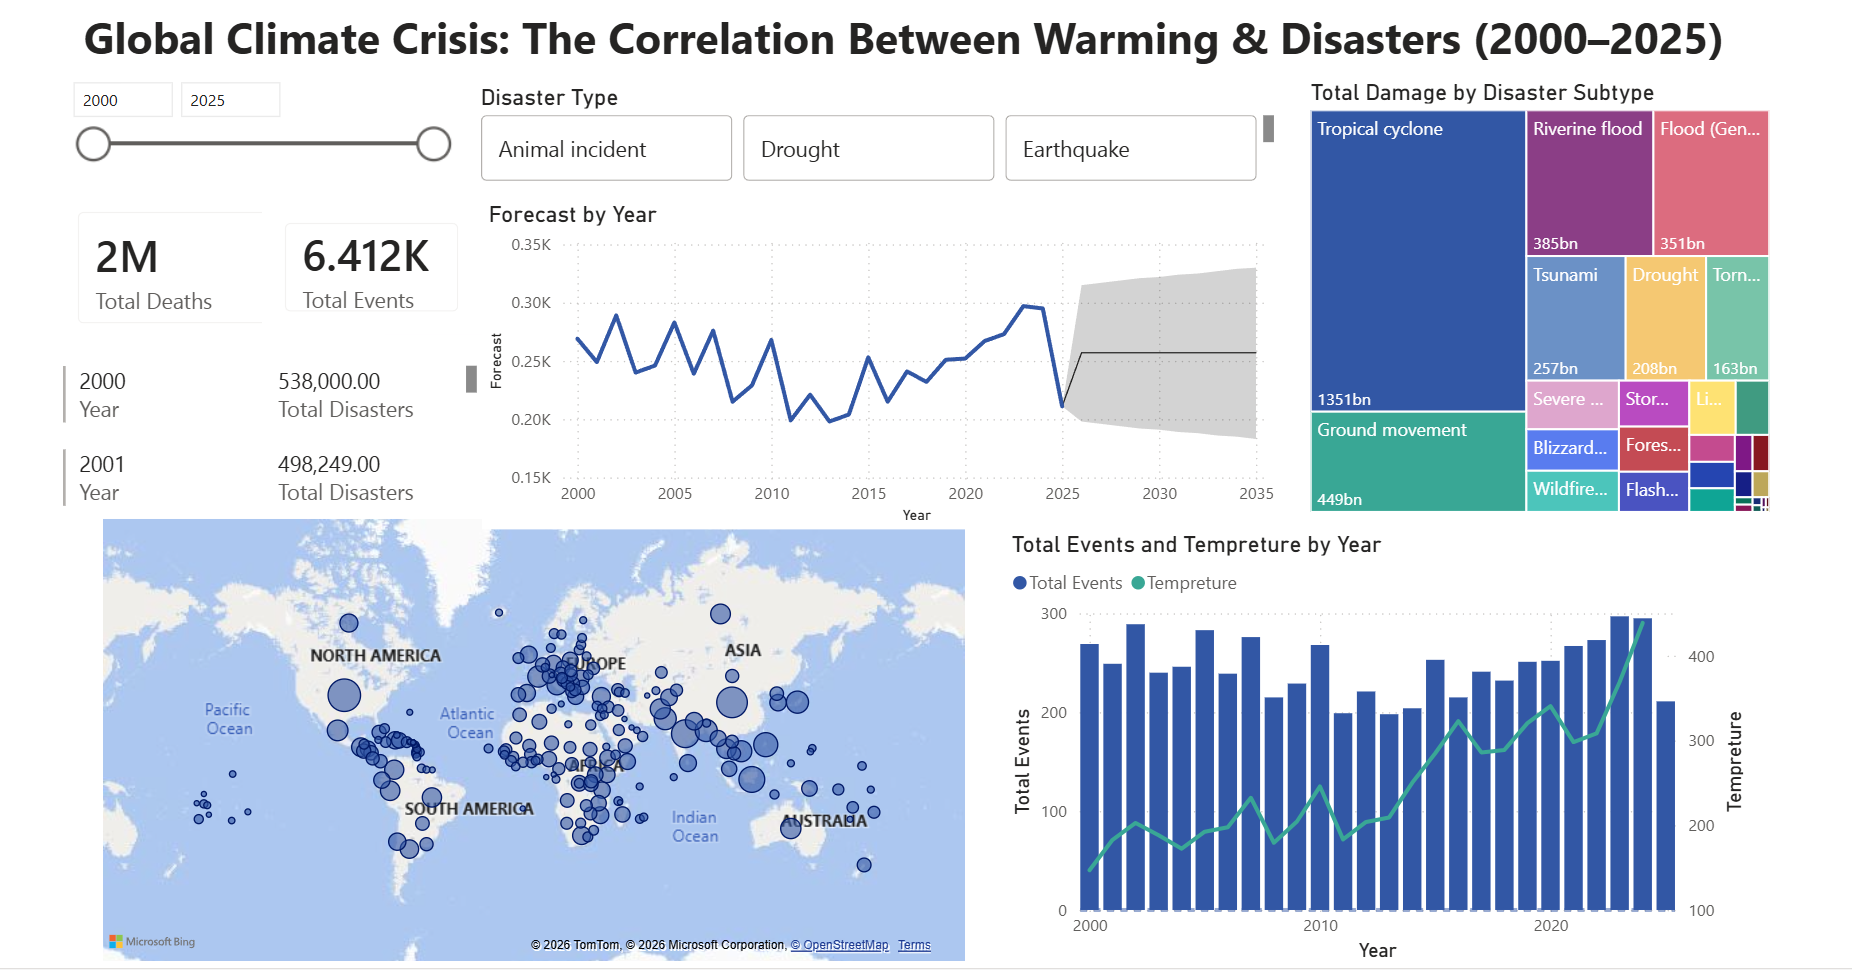

This screenshot's page, from the dashboard's own definition file:
{"tool":"powerbi","page":{"name":"DW","canvas":[1280,720],"ordinal":0},"visuals":[{"type":"slicer","fields":{"Values":["Master_Year.Year"]},"box":[0.9,49.3,302.7,90.4],"z":0},{"type":"cardVisual","fields":{"Data":["Sum(Disasters.Total Deaths)"]},"box":[0,140.6,177.3,117.3],"z":1000},{"type":"map","fields":{"Category":["Master_Countries.Country"],"Size":["CountNonNull(Disasters.Total Events)"]},"box":[30.4,360,651,360],"z":2000},{"type":"lineStackedColumnComboChart","fields":{"Category":["Master_Year.Year"],"Y":["CountNonNull(Disasters.Total Events)"],"Y2":["Sum(Climate_Indicators_Annual_Mean_Global_Surface_Temperature.Tempreture)"]},"box":[706.6,394,554.3,326],"z":3000},{"type":"cardVisual","fields":{"Data":["CountNonNull(Disasters.Total Events)"]},"box":[154,148.7,163.9,100.3],"z":4000},{"type":"treemap","fields":{"Values":["Sum(Disasters.Total Damage (USD, original))"],"Group":["Disasters.Disaster Subtype"]},"box":[928.7,58.2,351,327.8],"z":5000},{"type":"advancedSlicerVisual","fields":{"Values":["Disasters.Disaster Type"]},"box":[311.6,61.8,600,78.8],"z":6000},{"type":"lineChart","fields":{"Category":["Master_Year.Year"],"Y":["CountNonNull(Disasters.Total Events)"]},"box":[317.9,148.7,593.7,245.4],"z":7000},{"type":"multiRowCard","fields":{"Values":["Master_Year.Year","Global_Disasters_Agg.Total Disasters"]},"box":[0.9,266.9,317.9,119.1],"z":8000},{"type":"textbox","box":[16.1,0,1247.5,58.2],"z":8001}]}

Visuals, with their boxes on the page's 1280x720 design canvas (x1, y1, x2, y2). These are canvas units, not pixel positions in the 1852x970 screenshot, which may show the page scaled, cropped or inside an application window:
slicer - Master_Year.Year: bbox=[1, 49, 304, 140]
cardVisual - Sum(Disasters.Total Deaths): bbox=[0, 141, 177, 258]
map - Master_Countries.Country x CountNonNull(Disasters.Total Events): bbox=[30, 360, 681, 720]
lineStackedColumnComboChart - Master_Year.Year x CountNonNull(Disasters.Total Events): bbox=[707, 394, 1261, 720]
cardVisual - CountNonNull(Disasters.Total Events): bbox=[154, 149, 318, 249]
treemap - Sum(Disasters.Total Damage (USD, original)) x Disasters.Disaster Subtype: bbox=[929, 58, 1280, 386]
advancedSlicerVisual - Disasters.Disaster Type: bbox=[312, 62, 912, 141]
lineChart - Master_Year.Year x CountNonNull(Disasters.Total Events): bbox=[318, 149, 912, 394]
multiRowCard - Master_Year.Year x Global_Disasters_Agg.Total Disasters: bbox=[1, 267, 319, 386]
textbox: bbox=[16, 0, 1264, 58]
